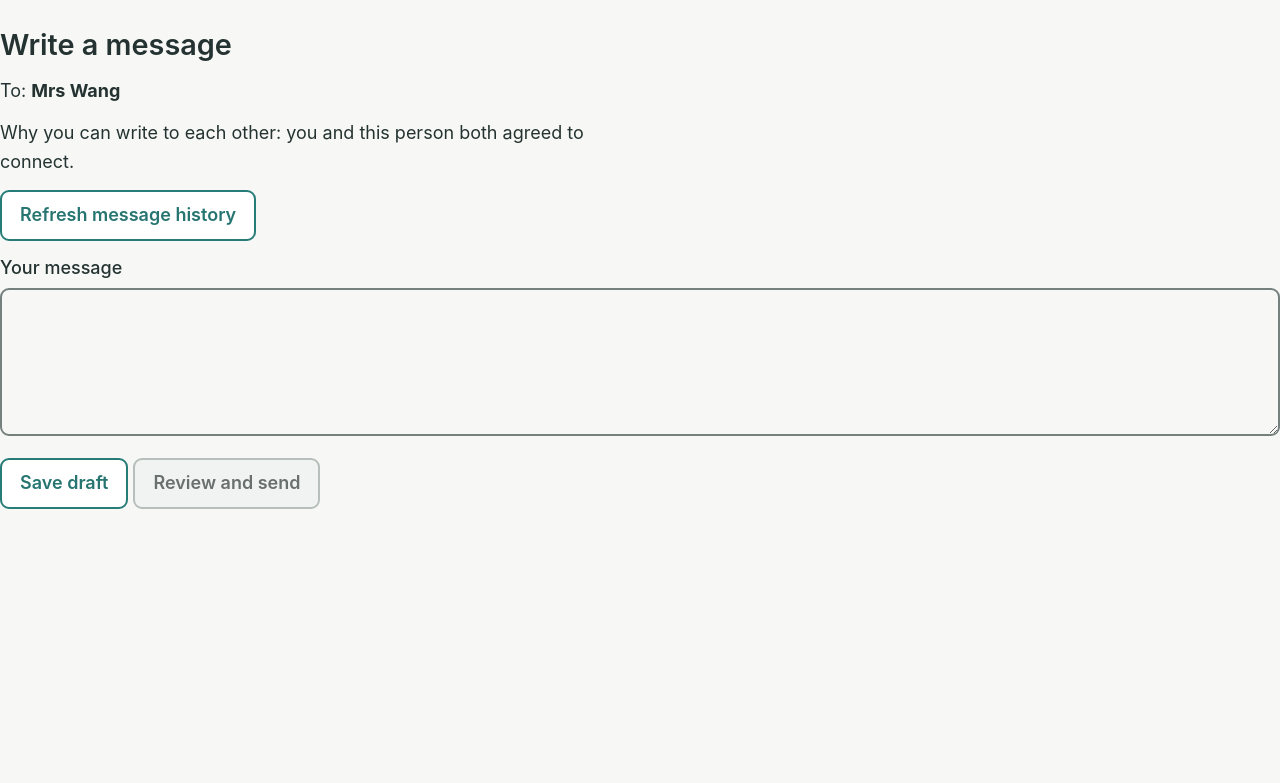
Test case: MessagePanel (Doc 20 §158–161 send confirmation) › the send confirmation says that confirming is not delivery, and names the basis
This screenshot has width=1280, height=783.
In the text box labelled "Your message": (640, 362) [0,288,1279,436], type "Hello"
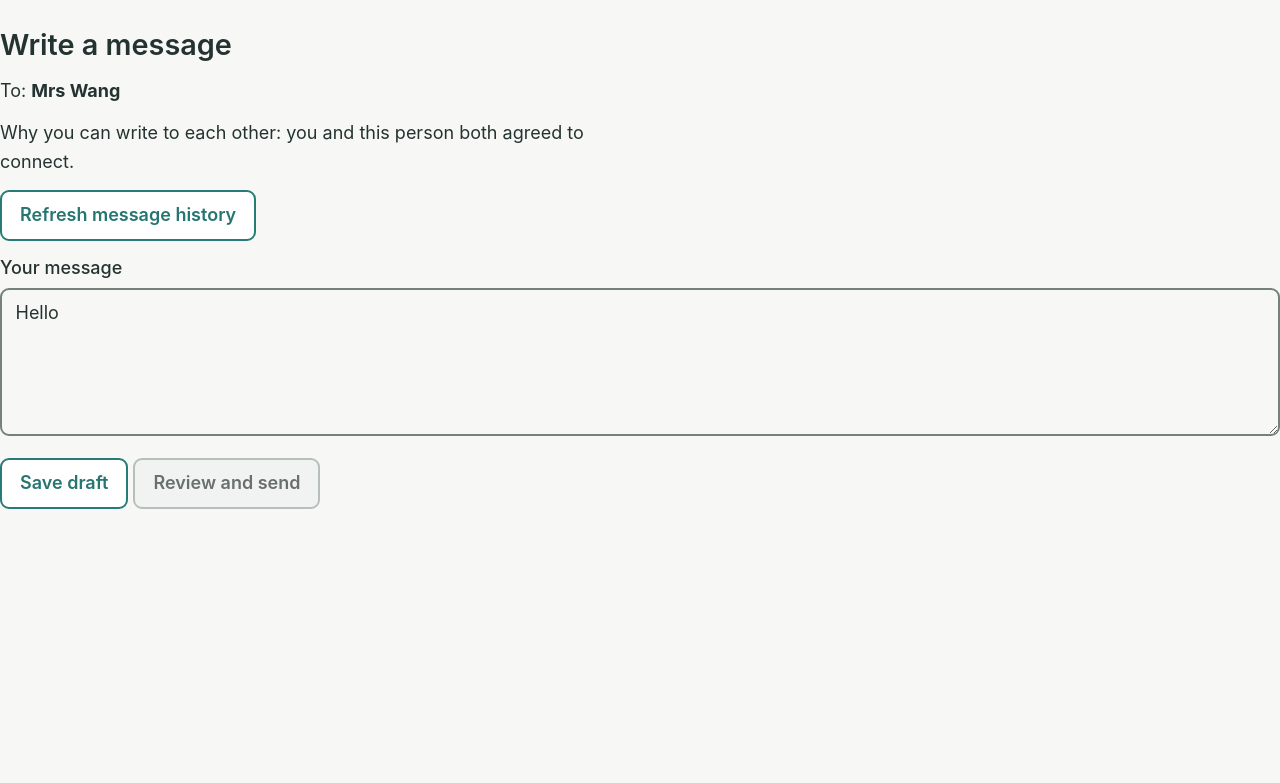
Click the button "Save draft": (64, 484) [0,458,128,509]
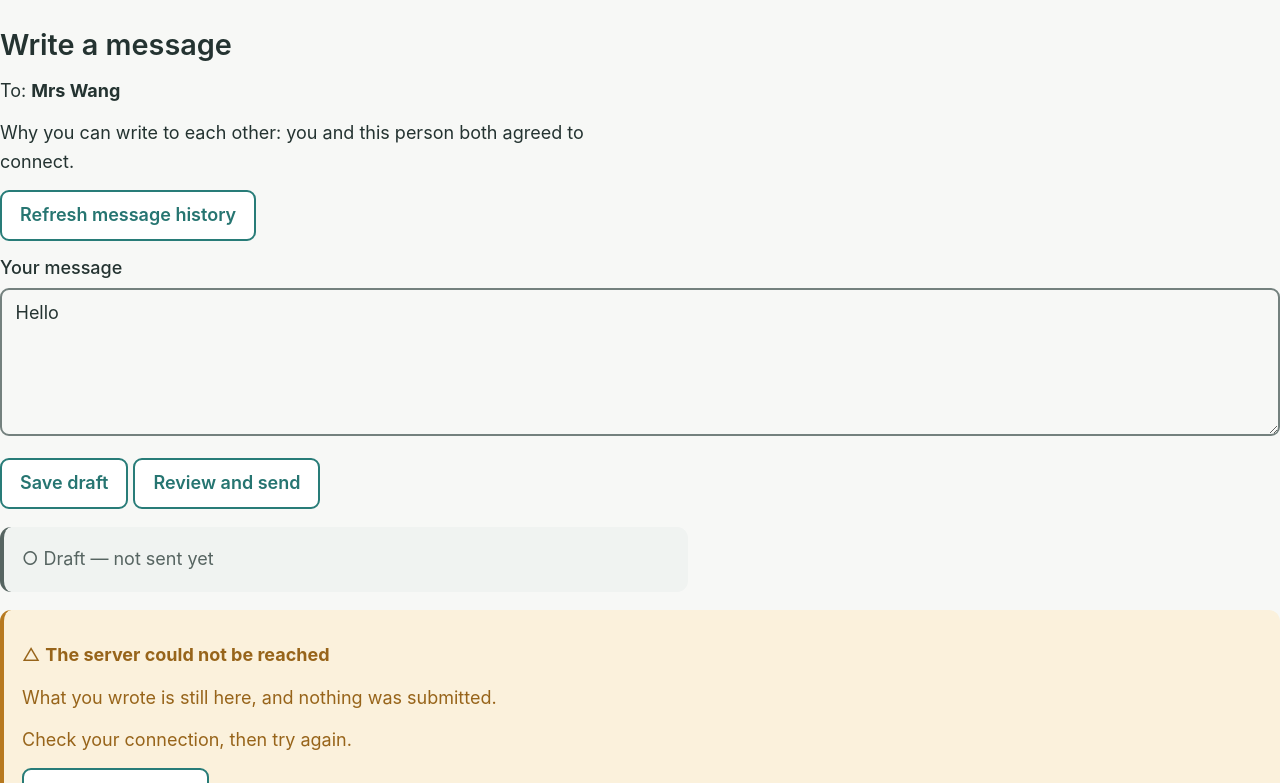
Click the button "Review and send": (227, 484) [133,458,320,509]
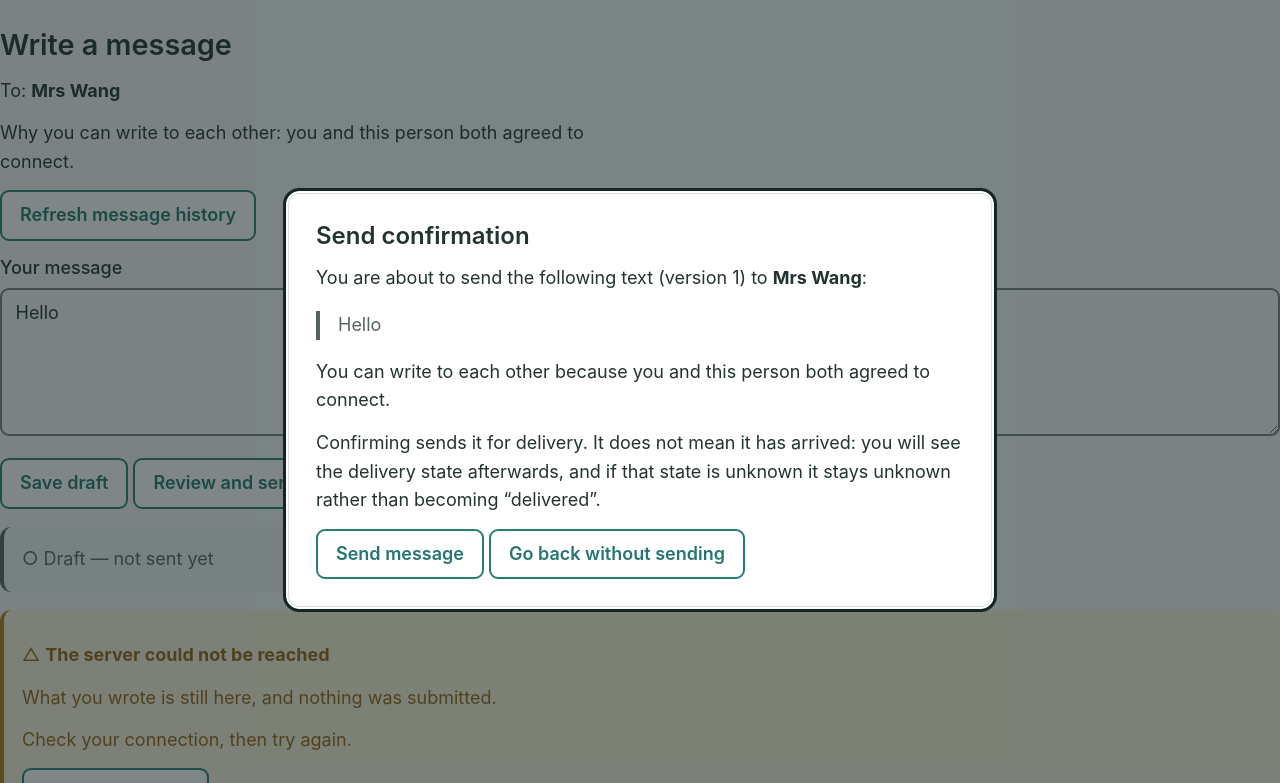
Result: the dialog shows "It does not mean it has arrived" at [316,432,961,510]
Result: the dialog shows "stays unknown" at [316,432,961,510]
Result: the dialog shows "you and this person both agreed to connect" at [316,361,930,410]
